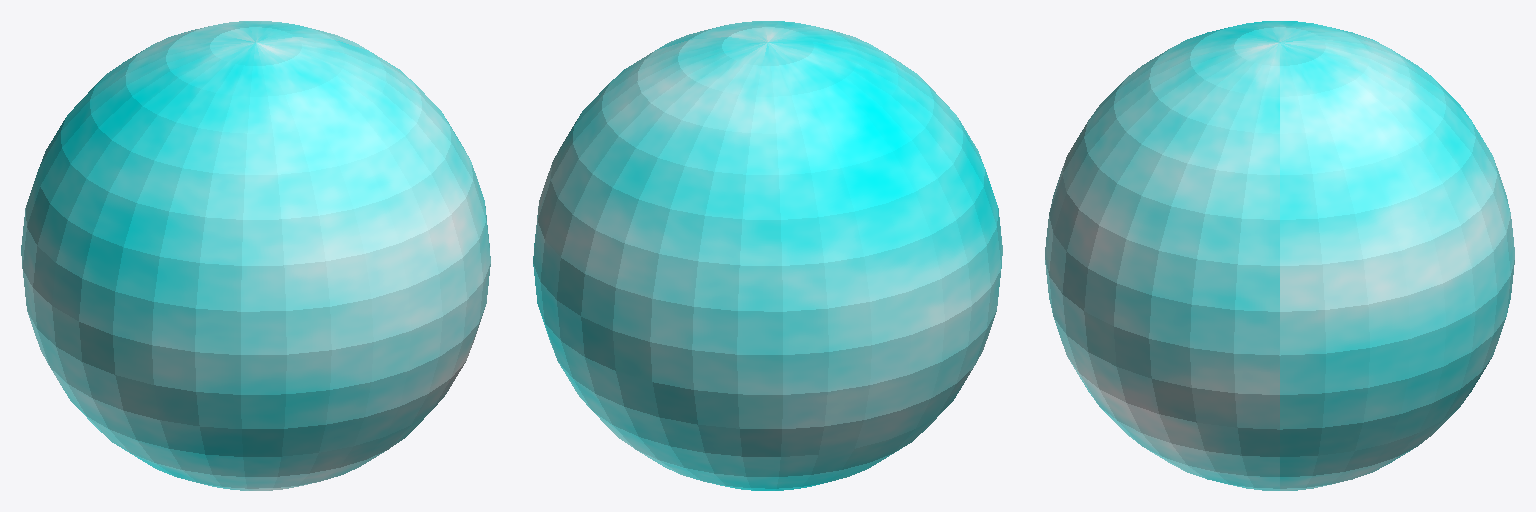
3 renders of one model, left to right at view 1: azimuth 30°, elevation 25°; view 2: azimuth 150°, elevation 25°; view 3: azimuth 270°, elevation 25°, orthographic.
Visible parts, largest first — view 1: 球; view 2: 球; view 3: 球.
Boxes of the visible parts, box(x1,y1,x2,y2) form: 球: box(21, 21, 490, 490); 球: box(533, 21, 1002, 490); 球: box(1045, 21, 1514, 490).
Size of the model in its own units: 1000 by 1000 by 1000.
1 materials, 1 textured.